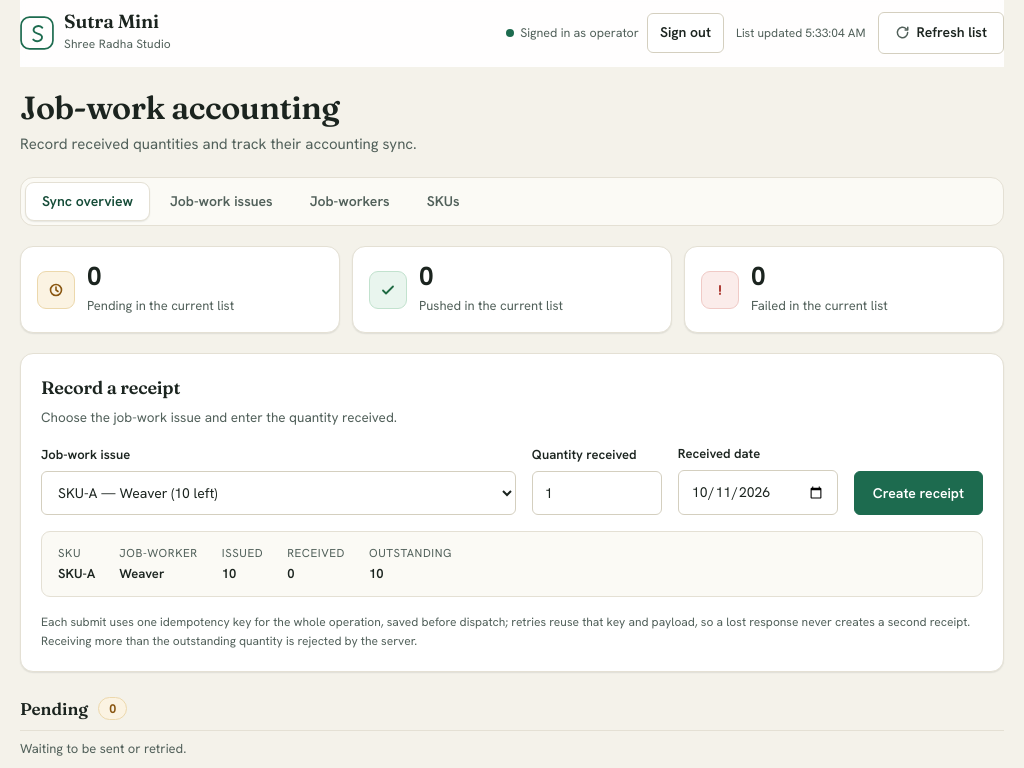
Test case: SyncPage refresh list › still reports completion when nothing changed
Click the button "Refresh list".
click(941, 33)  # box left=878, top=12, right=1004, bottom=54
Wait 10 ms
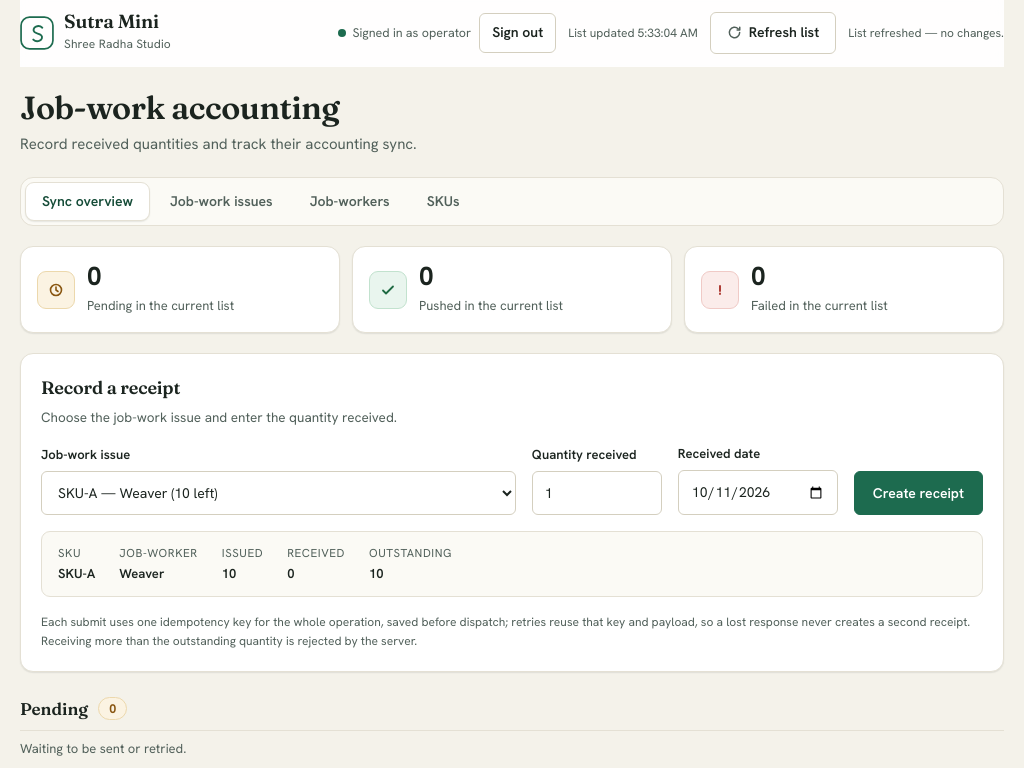
Check: the text "List refreshed — no changes." is shown, box left=848, top=24, right=1004, bottom=42
